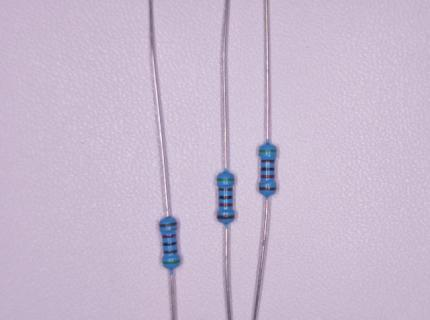Black band: (162, 241, 177, 247), (218, 195, 232, 199), (260, 167, 274, 171)
Brown band: (158, 222, 177, 228), (216, 214, 235, 219), (259, 187, 277, 191), (163, 249, 177, 254), (218, 187, 232, 191), (261, 159, 275, 163)
Green band: (162, 258, 181, 266), (258, 149, 277, 153), (217, 178, 235, 182)
Red band: (162, 234, 177, 239), (260, 174, 275, 179), (219, 202, 233, 207)
